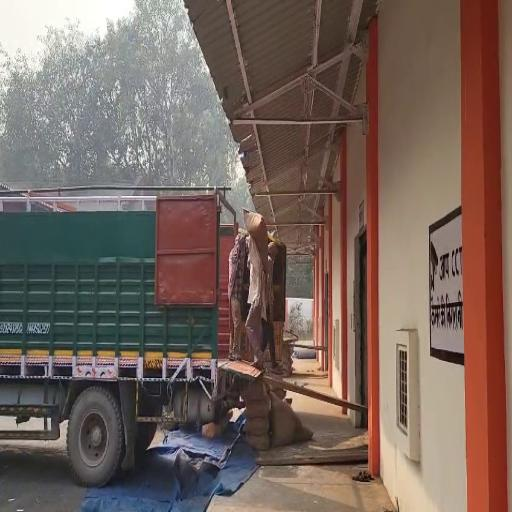bag: (243, 209, 272, 261)
